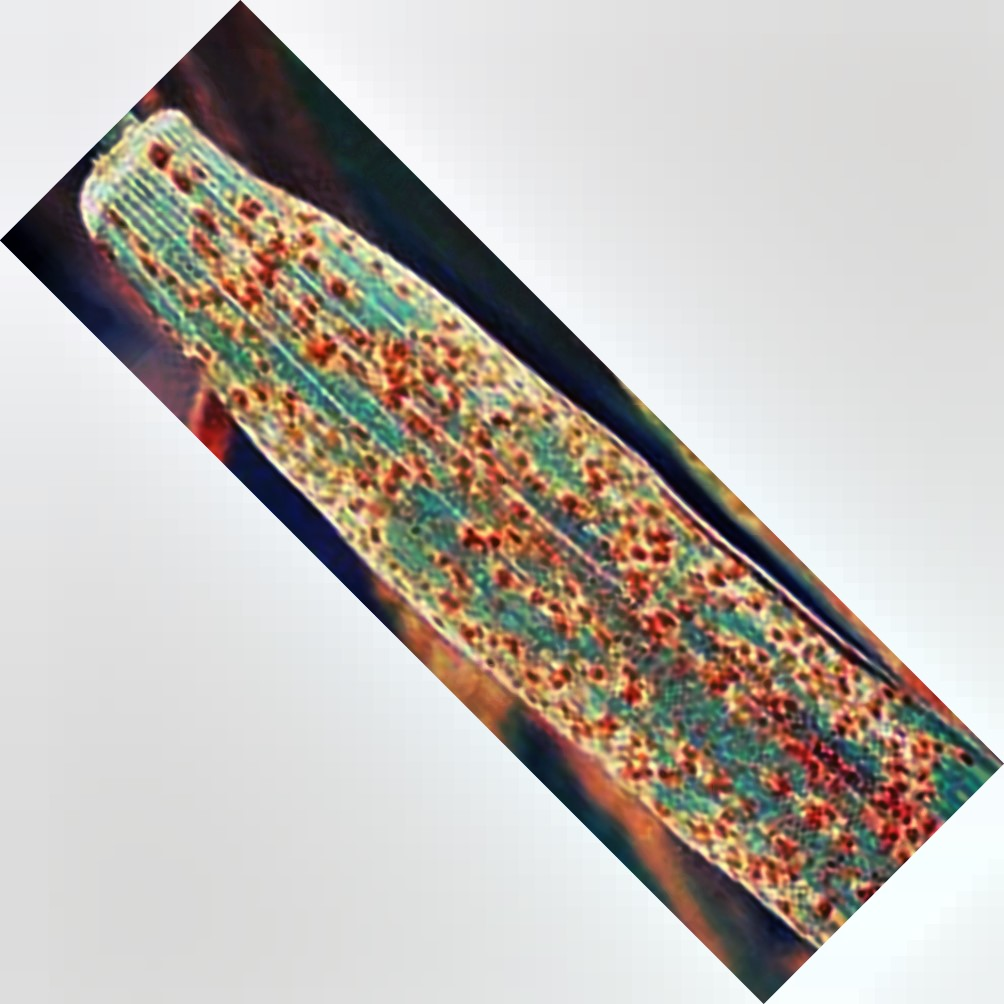Leaf Rust: (170, 201, 934, 907)
